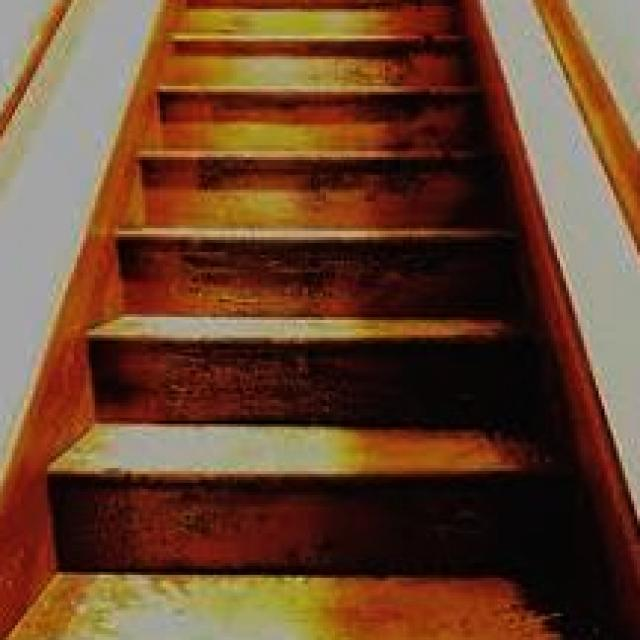upstair: (31, 235, 588, 517)
